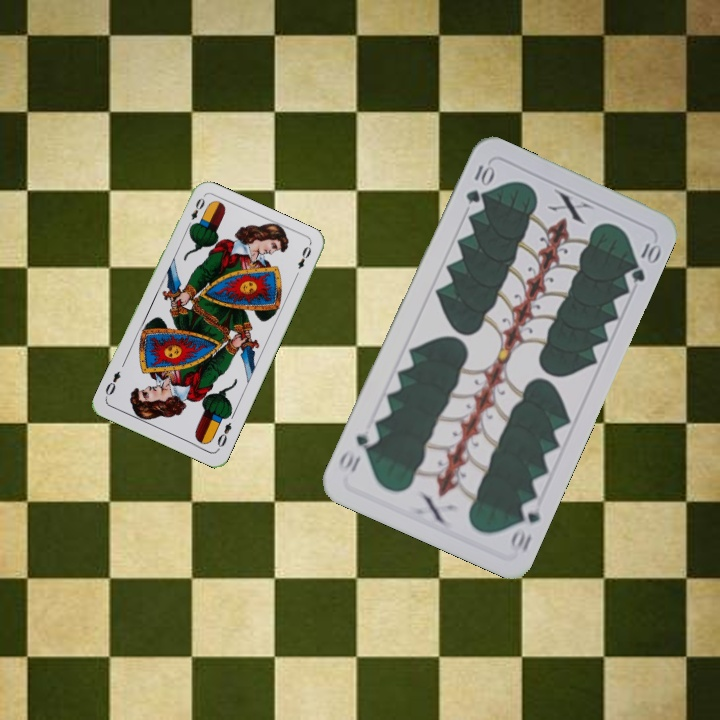EO: (183, 194, 208, 232), (213, 418, 234, 452)
G10: (506, 496, 544, 555), (461, 160, 496, 206)
